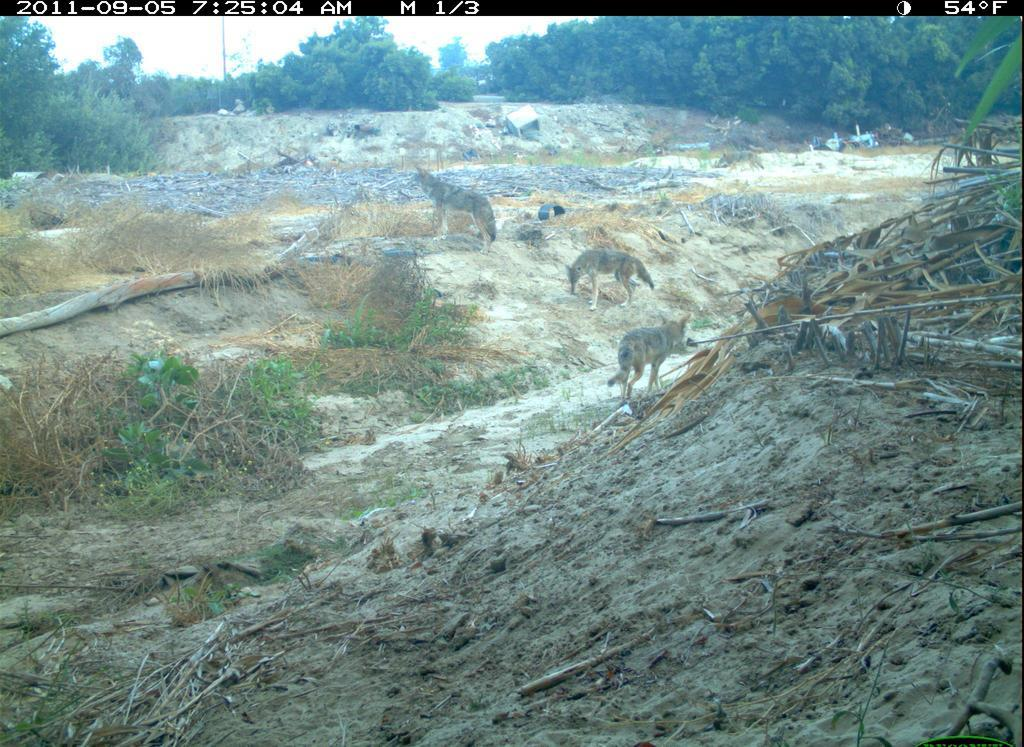coyote: (405, 158, 513, 255), (605, 308, 705, 409), (559, 232, 664, 313)
